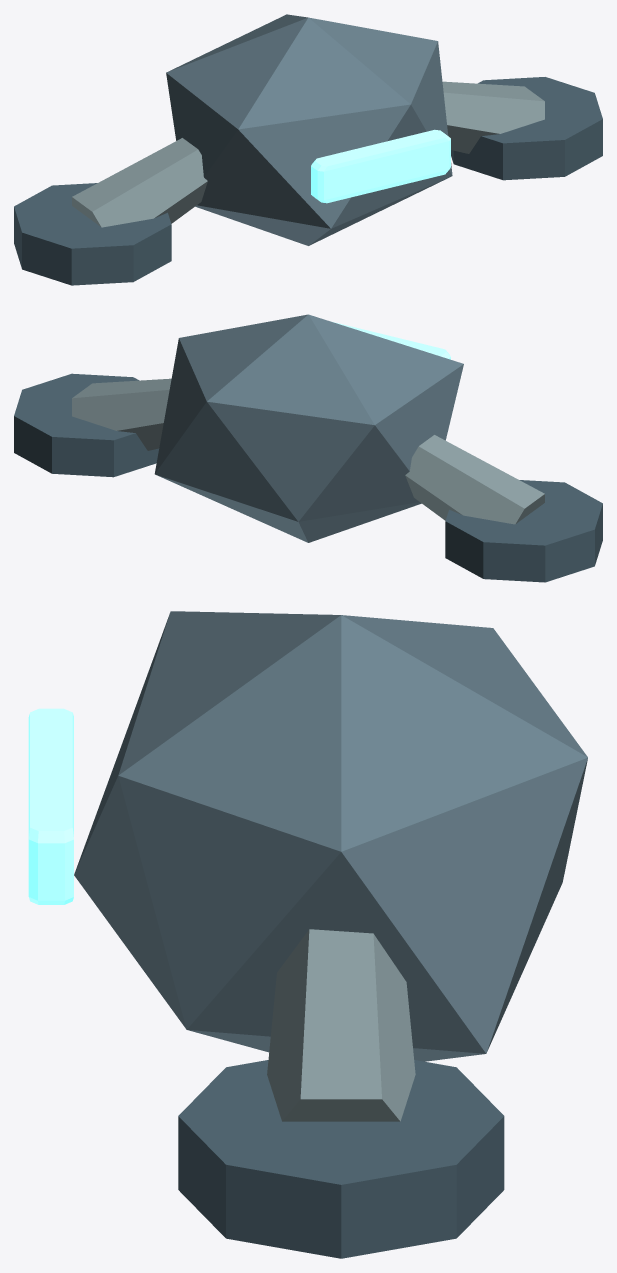
File: SM_ELY_UNIT_000_SecurityDrone.glb
3 renders of one model, top to bottom at view 1: azimuth 30°, elevation 25°; view 2: azimuth 150°, elevation 25°; view 3: azimuth 270°, elevation 25°, orthographic. The views are drawn at different scales.
Visible parts, largest first — view 1: SM_ELY_UNIT_000_SecurityDrone; view 2: SM_ELY_UNIT_000_SecurityDrone; view 3: SM_ELY_UNIT_000_SecurityDrone.
Boxes of the visible parts, x1,y1,x2,y2 form: SM_ELY_UNIT_000_SecurityDrone: (14,14,602,285); SM_ELY_UNIT_000_SecurityDrone: (14,314,602,582); SM_ELY_UNIT_000_SecurityDrone: (28,611,587,1258).
Bounding box in the file's own units: 1.46 × 0.557 × 0.6175.
